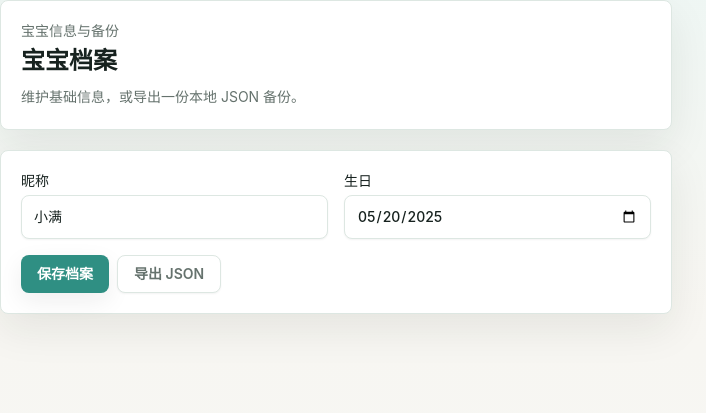
Test: ProfilePage › prevents duplicate save calls while saving
This screenshot has width=706, height=413.
Later steps or results of the test are not shown.
Step 1. Double-click the button "保存档案" → (65, 274), box [21,255,109,293]
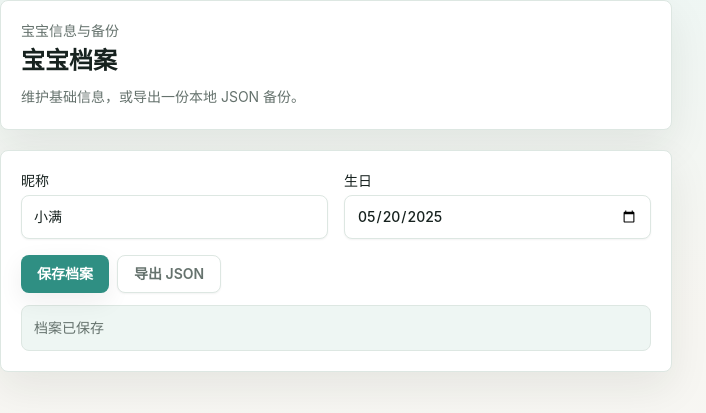
Expected: the text "档案已保存" is shown, [21,305,651,351]
